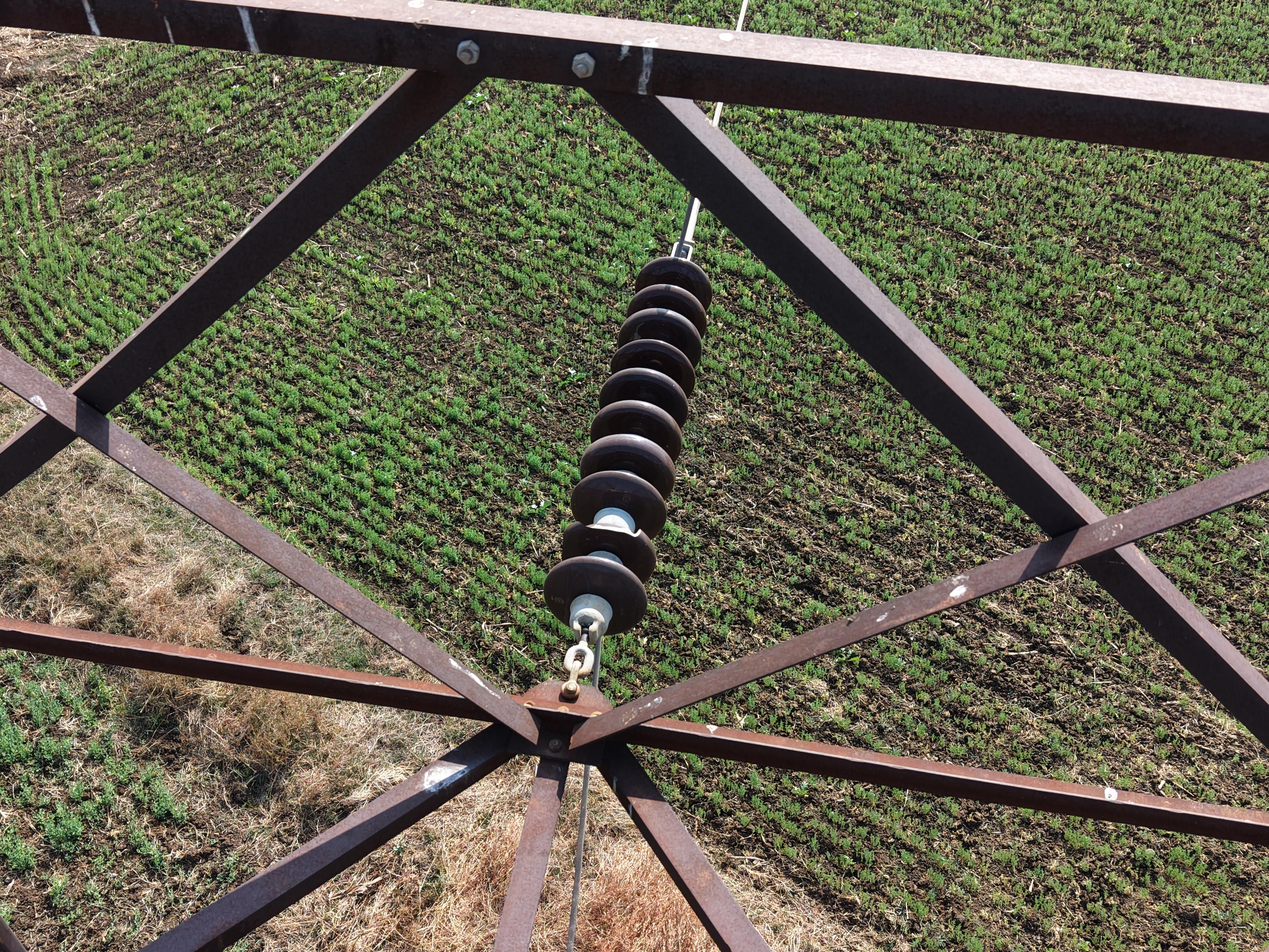broken_insulator: (557, 520, 662, 581)
